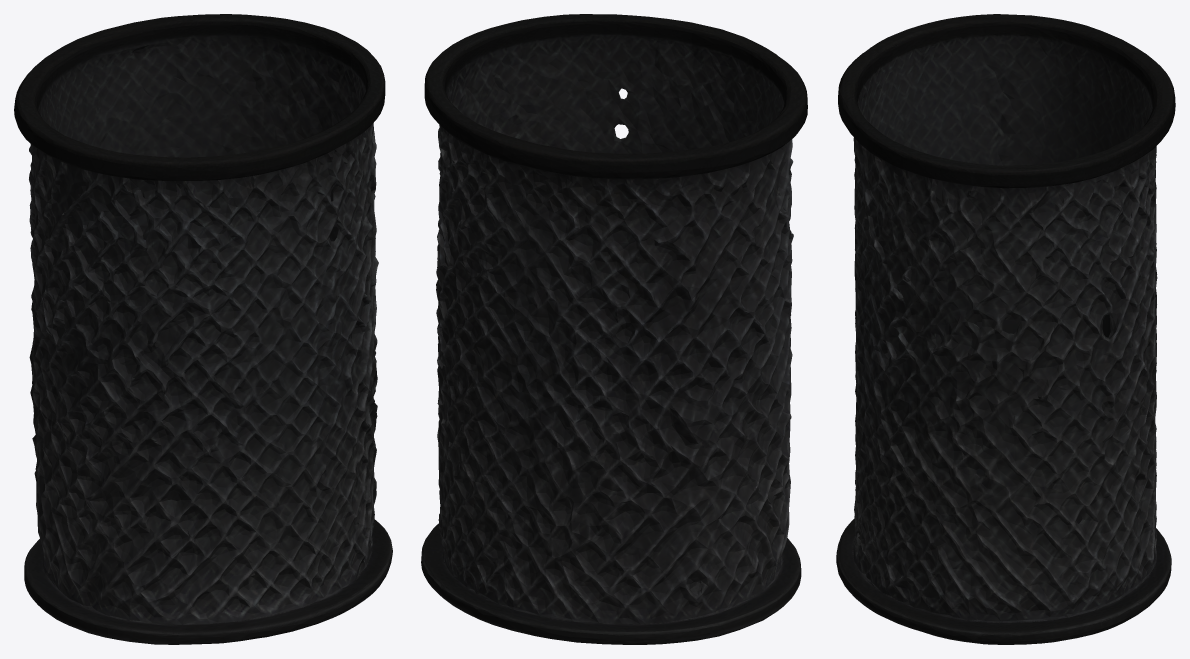
The model's file is stat.glb.
3 renders of one model, left to right at view 1: azimuth 30°, elevation 25°; view 2: azimuth 150°, elevation 25°; view 3: azimuth 270°, elevation 25°, orthographic. The views are drawn at different scales.
Parts seen in each view (by area): view 1: world; view 2: world; view 3: world.
Part boxes in pixels (x1=…): world: x1=14, y1=14, x2=392, y2=644; world: x1=421, y1=14, x2=807, y2=644; world: x1=836, y1=14, x2=1175, y2=644.
Bounding box in the file's own units: 0.7291 × 0.9984 × 0.6451.
1 material, 1 textured.
